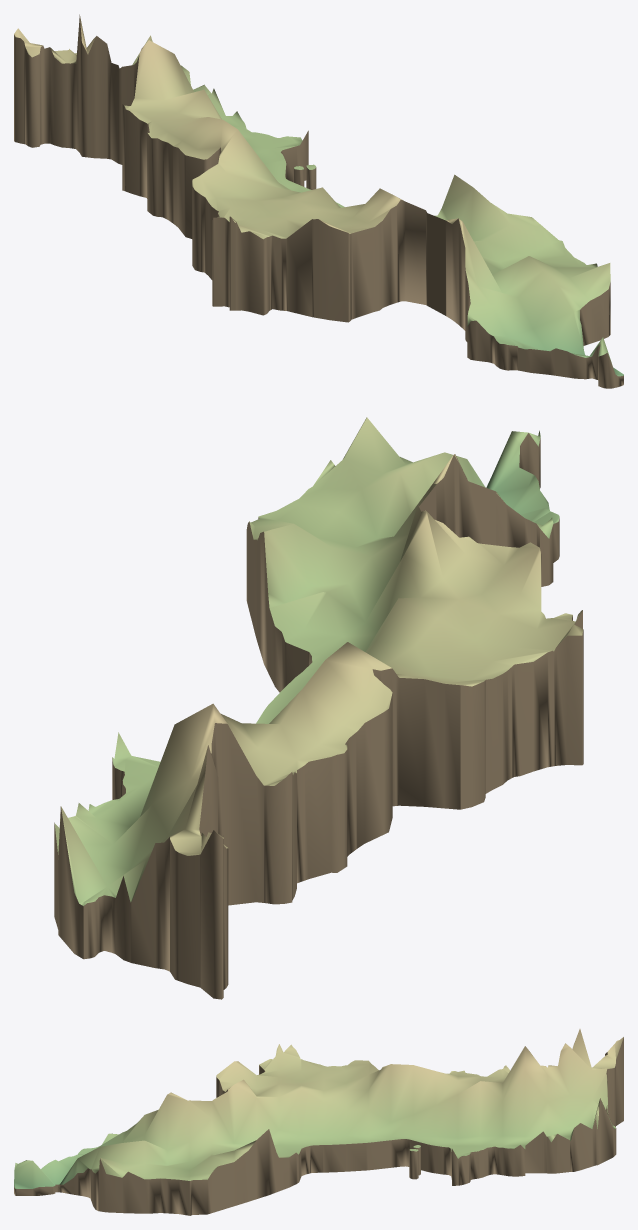
Rendered from MWI.glb.
The picture shows the model from 3 angles, top to bottom: view 1: azimuth 30°, elevation 25°; view 2: azimuth 150°, elevation 25°; view 3: azimuth 270°, elevation 25°; orthographic projection. The views are drawn at different scales.
Visible parts, largest first — view 1: MWI; view 2: MWI; view 3: MWI.
Part boxes in pixels (x1,y1,x2,y2): MWI: (14,14,623,388); MWI: (54,417,583,999); MWI: (14,1029,623,1215).
Bounding box in the file's own units: 0.7195 × 0.338 × 1.78.
